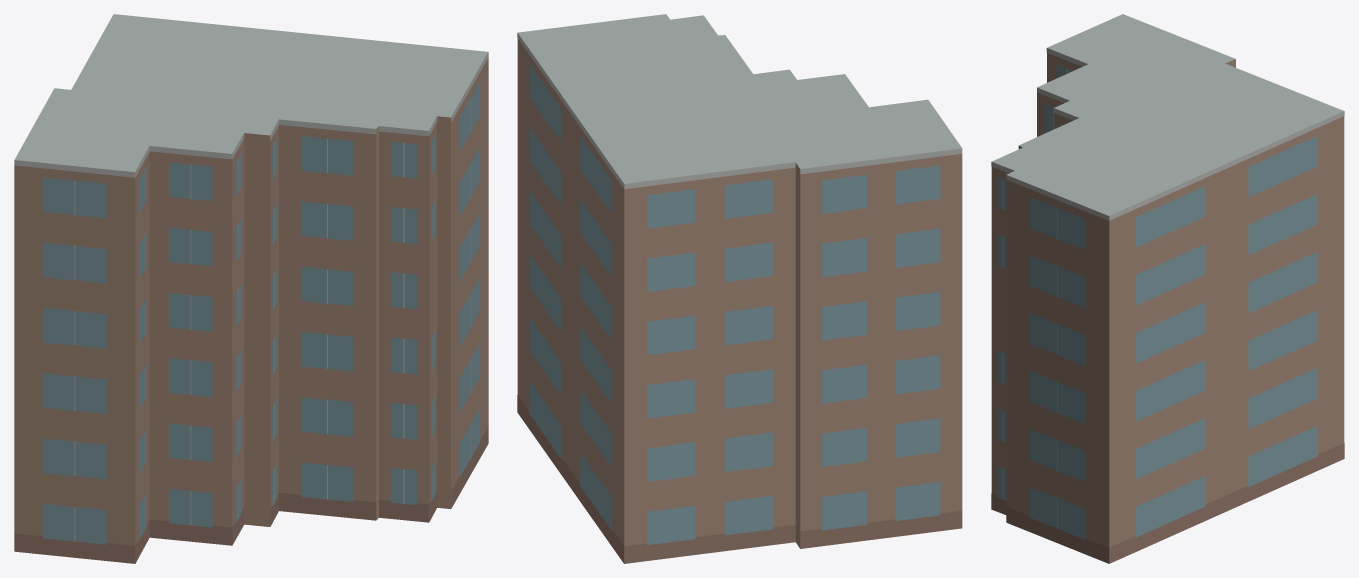
The model's file is survey-upis-32749684.glb.
3 views of the same model, side by side, from view 1: azimuth 30°, elevation 25°; view 2: azimuth 150°, elevation 25°; view 3: azimuth 270°, elevation 25° (orthographic). The views are drawn at different scales.
Visible parts, largest first — view 1: survey-upis-32749684.tmp; view 2: survey-upis-32749684.tmp; view 3: survey-upis-32749684.tmp.
Part boxes in pixels (box(x1,y1,x2,y2)): survey-upis-32749684.tmp: box(14, 14, 488, 563); survey-upis-32749684.tmp: box(517, 14, 962, 563); survey-upis-32749684.tmp: box(991, 14, 1344, 563).
Bounding box in the file's own units: 21.94 × 17.6 × 16.2.
